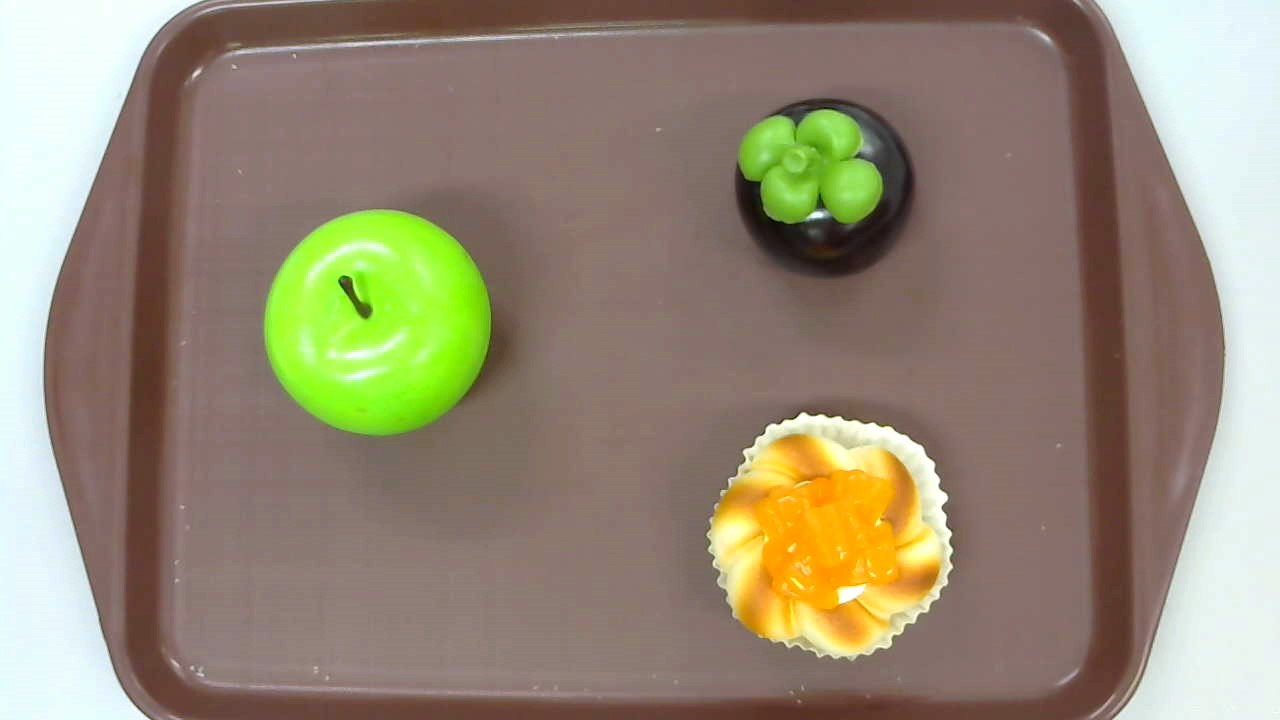green apple: (262, 209, 491, 437)
mango tart: (707, 409, 953, 662)
mangosteen: (735, 98, 916, 278)
